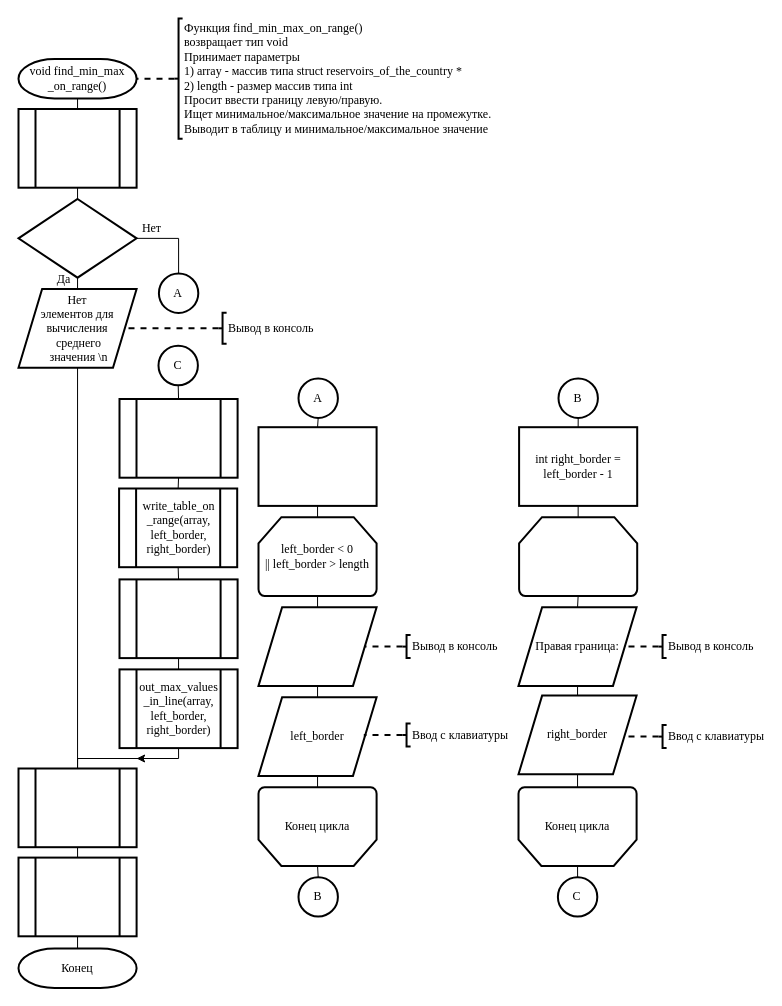
This 782x1006 diagram has some shape labels left out. Each missing label, with the centre of its shape:
"clear_console()" goes at point (77, 148).
"int left_border = -1" goes at point (317, 466).
"length == 0" goes at point (77, 238).
"menu( array, length )" goes at point (77, 896).
"out_min_values _in_line(array, left_border, right_border)" goes at point (178, 618).
"pause_console()" goes at point (77, 807).
"right_border < left_border || right_border > length" goes at point (578, 556).
"write_head _table()" goes at point (178, 438).
"Левая граница:" goes at point (317, 646).
